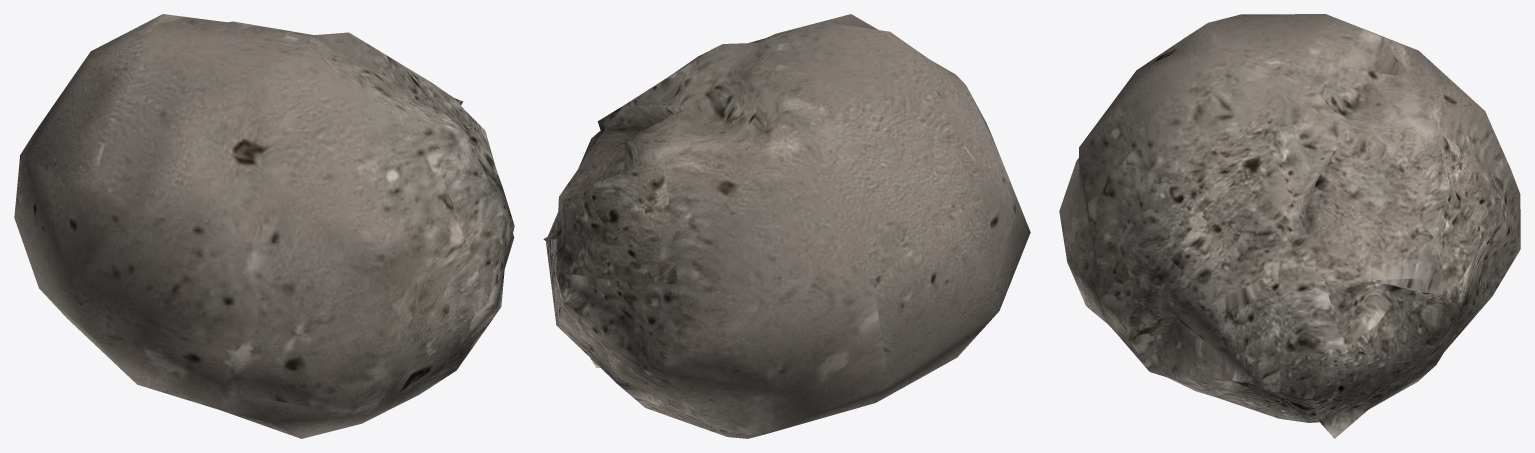
The model's file is boulder-b.glb.
3 views of the same model, side by side, from view 1: azimuth 30°, elevation 25°; view 2: azimuth 150°, elevation 25°; view 3: azimuth 270°, elevation 25° (orthographic). The views are drawn at different scales.
Visible parts, largest first — view 1: tripo_node_28eb7764-c5f9-4477-a081-14a792524dcd; view 2: tripo_node_28eb7764-c5f9-4477-a081-14a792524dcd; view 3: tripo_node_28eb7764-c5f9-4477-a081-14a792524dcd.
Part boxes in pixels (left/top/right/bottom): tripo_node_28eb7764-c5f9-4477-a081-14a792524dcd: left=14, top=14, right=514, bottom=438; tripo_node_28eb7764-c5f9-4477-a081-14a792524dcd: left=543, top=14, right=1030, bottom=438; tripo_node_28eb7764-c5f9-4477-a081-14a792524dcd: left=1059, top=14, right=1520, bottom=438.
Size of the model in its own units: 0.9381 by 0.7901 by 0.982.
1 material, 1 textured.
